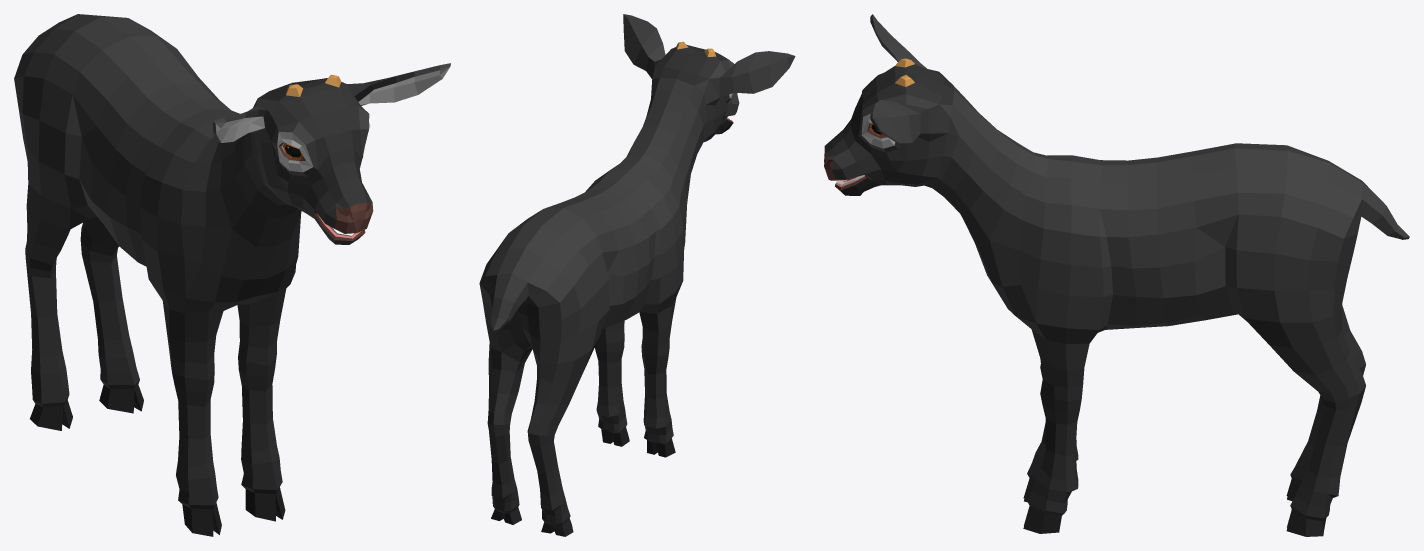
File: LowPoly_Goatling_5.obj
3 renders of one model, left to right at view 1: azimuth 30°, elevation 25°; view 2: azimuth 150°, elevation 25°; view 3: azimuth 270°, elevation 25°, orthographic. The views are drawn at different scales.
Parts seen in each view (by area): view 1: Goatling_5_Cube.006; view 2: Goatling_5_Cube.006; view 3: Goatling_5_Cube.006.
Part boxes in pixels (bbox=[...]): Goatling_5_Cube.006: bbox=[14, 14, 450, 536]; Goatling_5_Cube.006: bbox=[479, 14, 795, 536]; Goatling_5_Cube.006: bbox=[824, 14, 1409, 536].
Bounding box in the file's own units: 0.2081 × 0.4165 × 0.4936.
